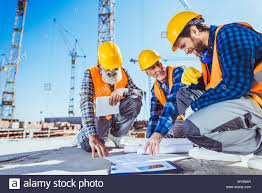helmet: (165, 11, 199, 45), (98, 44, 123, 69), (137, 49, 159, 70)
vest: (197, 39, 262, 114), (90, 72, 124, 116), (154, 78, 185, 124)
